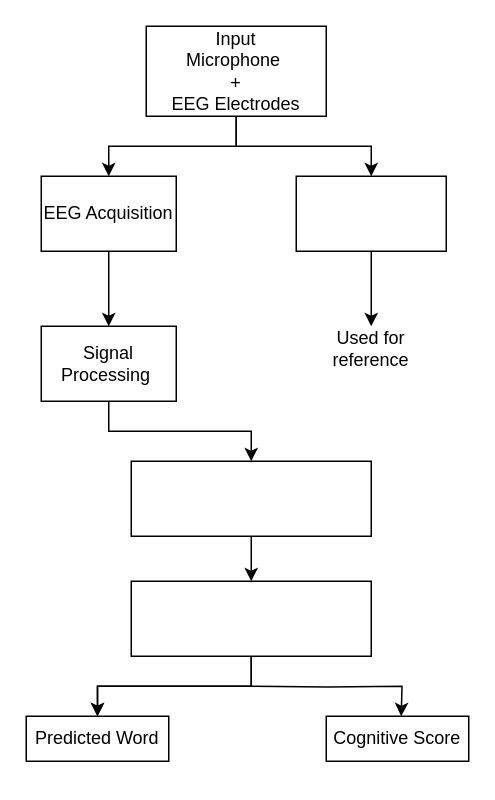
Some shapes in this 495 by 800 pixel diagram are drawn without their labels. The shapes that lost their labels are listed below. From the top down, each one's box as (x1, y1, x2, y2) in pixels, then its label:
(295, 175, 446, 251): Speech Acquisition
(130, 460, 371, 536): Feature Extraction (Speech and frequency bands)
(130, 580, 371, 656): Training and Prediction of ML model
